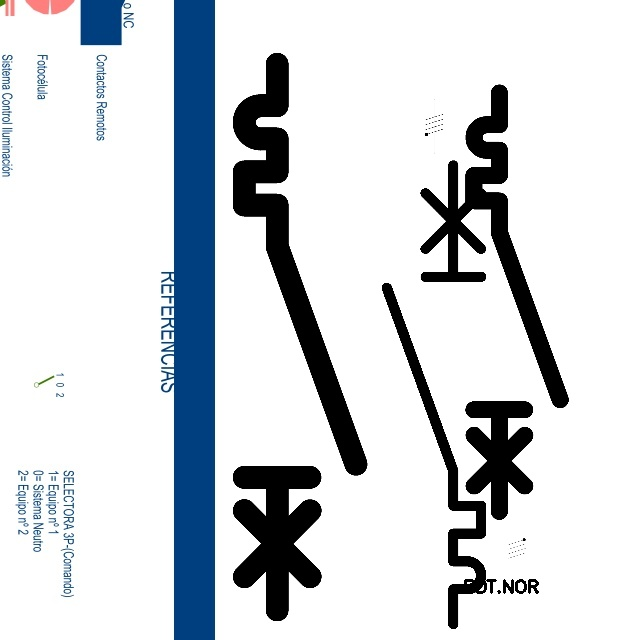interruptor_termomagnetico: (230, 50, 370, 624), (375, 153, 493, 636), (463, 82, 571, 522)
